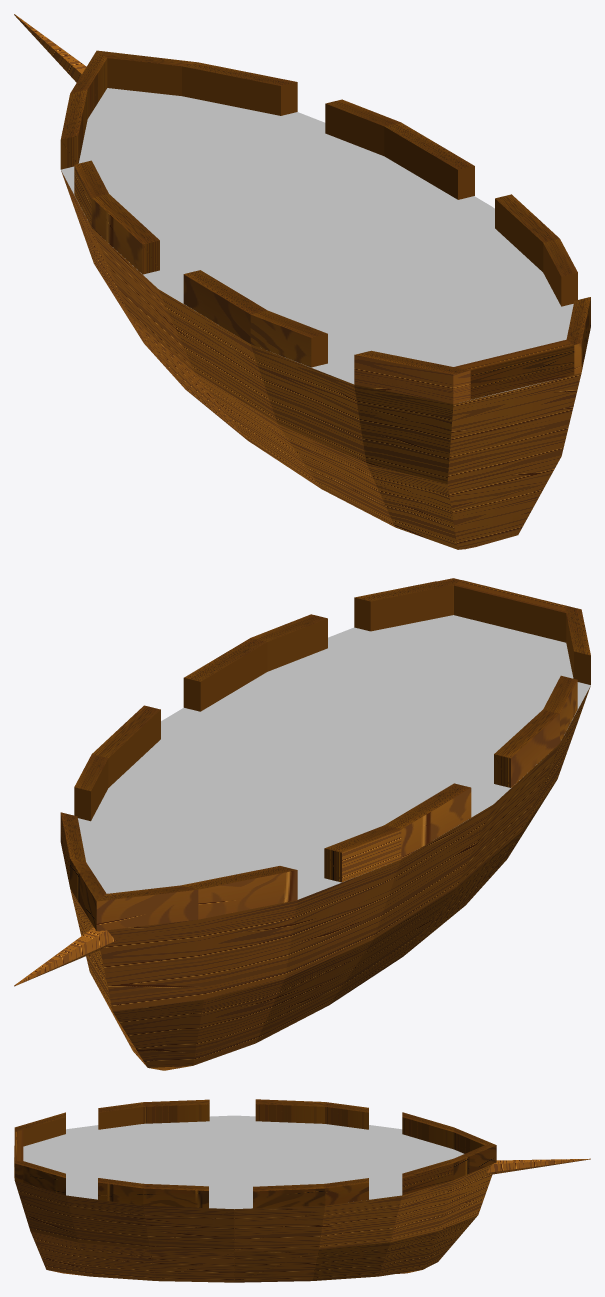
File: BateauFinalV1.fbx
3 views of the same model, one above another, from view 1: azimuth 30°, elevation 25°; view 2: azimuth 150°, elevation 25°; view 3: azimuth 270°, elevation 25° (orthographic). The views are drawn at different scales.
Visible parts, largest first — view 1: Cercle, Cercle.001; view 2: Cercle, Cercle.001; view 3: Cercle, Cercle.001.
Boxes of the visible parts, left/top/right/bottom form: Cercle: left=60, top=50, right=590, bottom=549; Cercle.001: left=14, top=14, right=86, bottom=82; Cercle: left=60, top=578, right=590, bottom=1070; Cercle.001: left=14, top=927, right=115, bottom=986; Cercle: left=14, top=1099, right=496, bottom=1282; Cercle.001: left=487, top=1158, right=590, bottom=1174.
Bounding box in the file's own units: 1184 × 739 × 3084.
